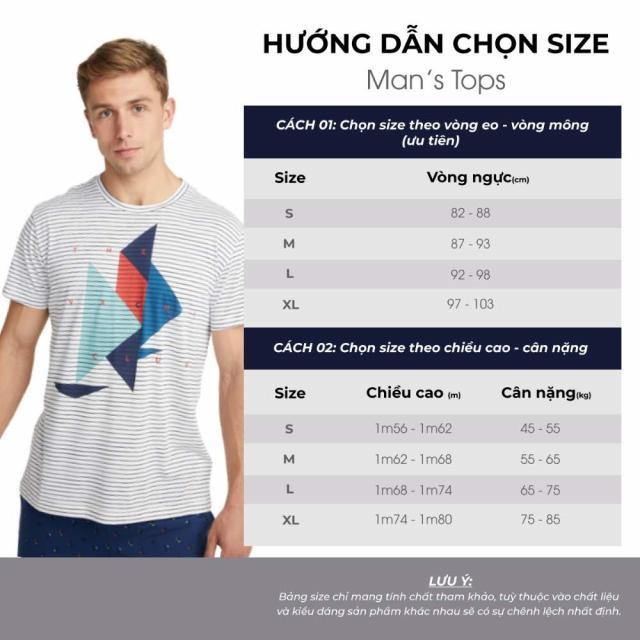Shirt: (3, 175, 245, 523)
